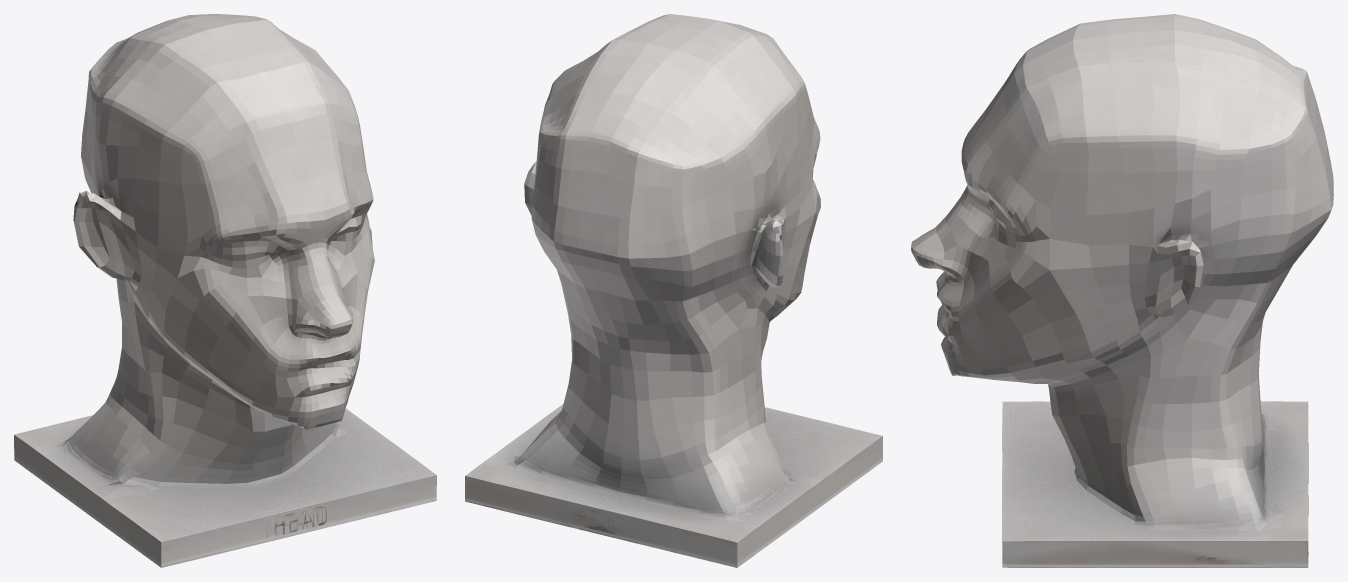
Rendered from Meshy_AI_Faceted_Head_0610133316_texture.fbx.
3 views of the same model, side by side, from view 1: azimuth 30°, elevation 25°; view 2: azimuth 150°, elevation 25°; view 3: azimuth 270°, elevation 25° (orthographic). The views are drawn at different scales.
Parts seen in each view (by area): view 1: temp; view 2: temp; view 3: temp.
Boxes of the visible parts, x1,y1,x2,y2 form: temp: (14,14,436,567); temp: (465,14,882,567); temp: (911,14,1333,567).
Size of the model in its own units: 123 by 191 by 158.
1 material, 1 textured.
